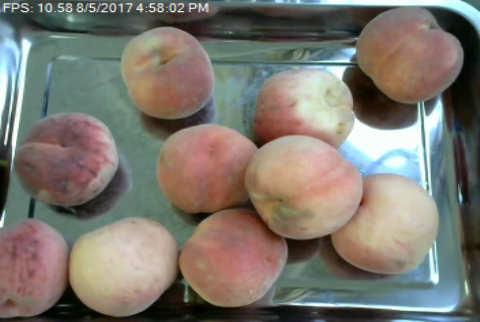Peach: (247, 136, 359, 239), (353, 7, 464, 103), (179, 209, 287, 307), (331, 174, 436, 274), (69, 219, 175, 315), (14, 112, 118, 205), (151, 122, 253, 214), (253, 66, 357, 155), (119, 27, 216, 121), (0, 220, 69, 317)
